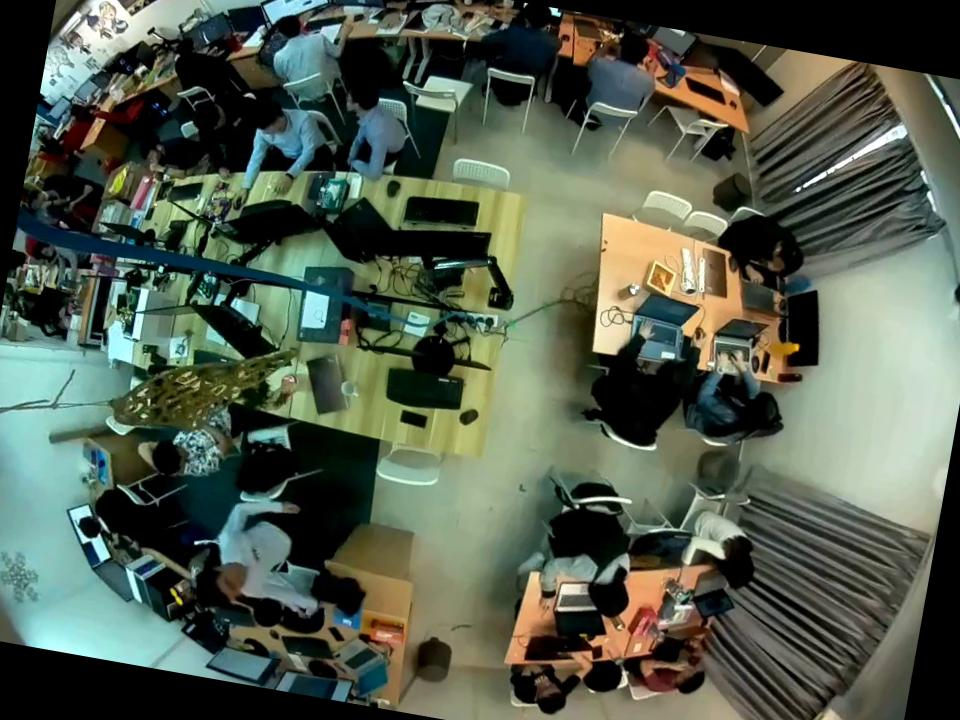employee_tag: (244, 542, 268, 566)
